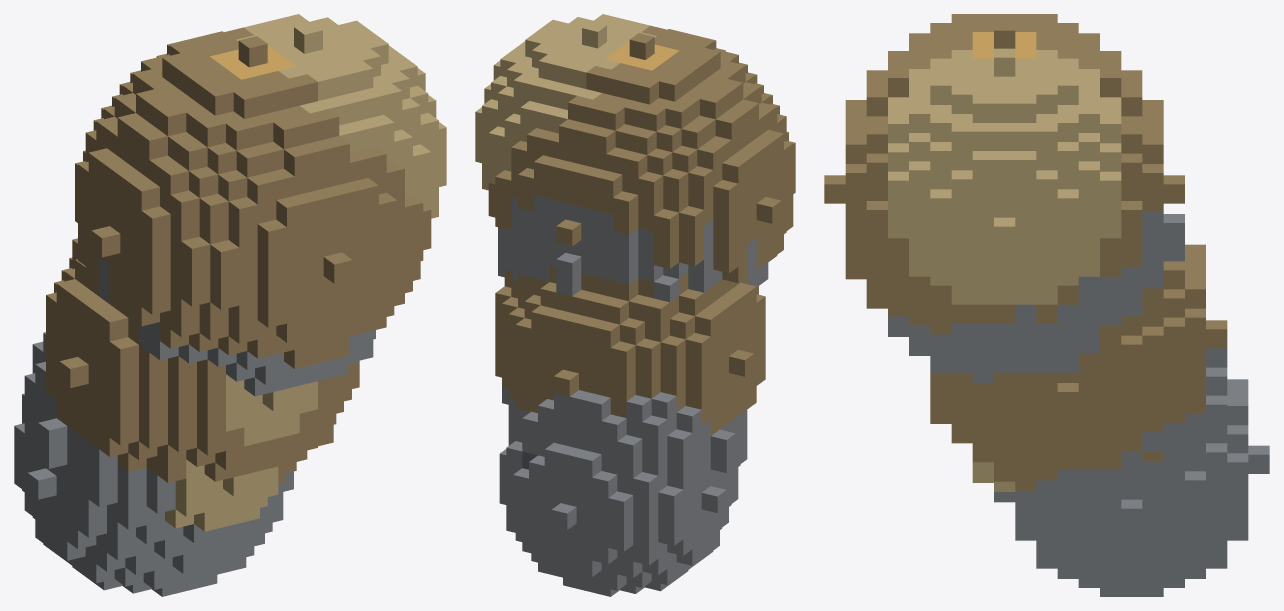
File: rb_shin.glb
The picture shows the model from 3 angles, left to right: view 1: azimuth 30°, elevation 25°; view 2: azimuth 150°, elevation 25°; view 3: azimuth 270°, elevation 25°; orthographic projection. The views are drawn at different scales.
Size of the model in its own units: 18 by 30 by 21.
